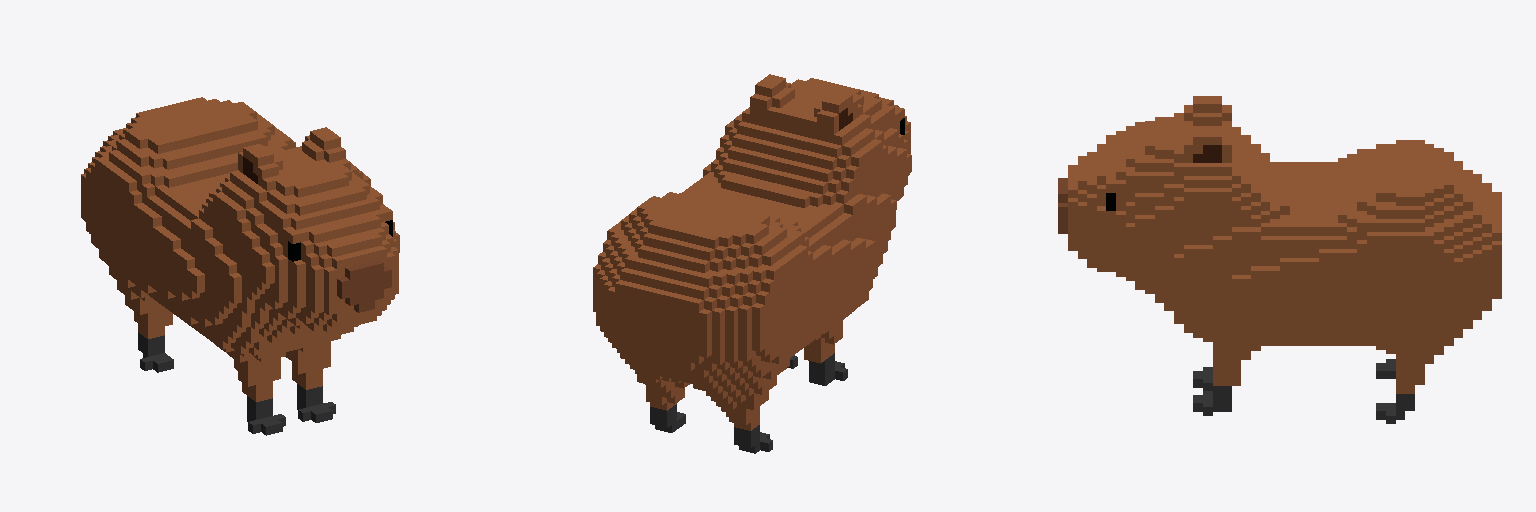
The picture shows the model from 3 angles: view 1: azimuth 30°, elevation 25°; view 2: azimuth 150°, elevation 25°; view 3: azimuth 270°, elevation 25°; orthographic projection.
Parts seen in each view (by area): view 1: object 1; view 2: object 1; view 3: object 1.
Boxes of the visible parts, x1,y1,x2,y2 form: object 1: [81, 97, 399, 435]; object 1: [593, 74, 911, 453]; object 1: [1058, 96, 1501, 423].
Size of the model in its own units: 2 by 3.2 by 4.6.
Materials: 1 (1 with a texture image).